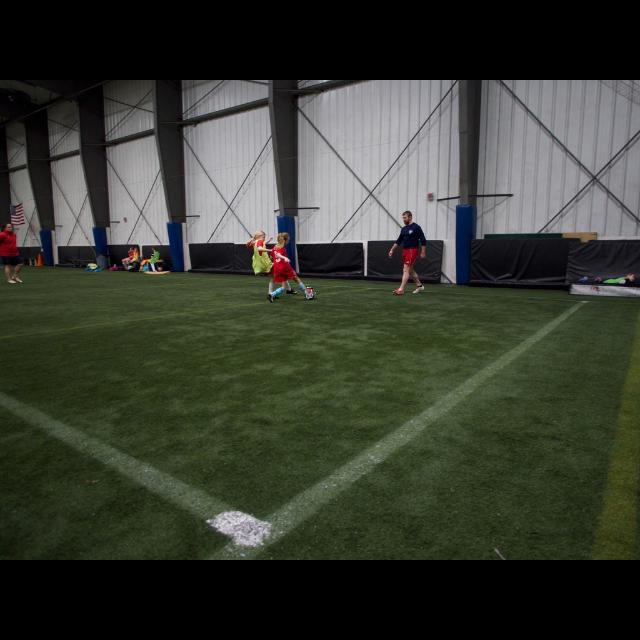Football: (305, 288, 313, 298)
